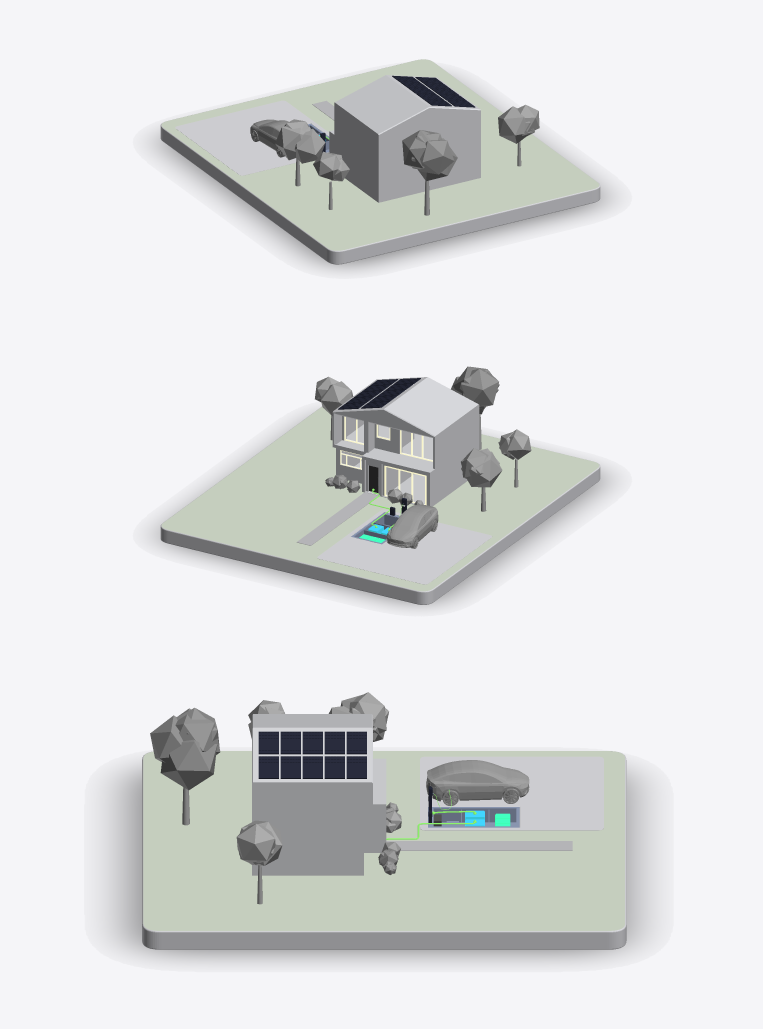
The model's file is sett-scroll-onzichtbare-energiehub.glb.
3 views of the same model, one above another, from view 1: azimuth 30°, elevation 25°; view 2: azimuth 150°, elevation 25°; view 3: azimuth 270°, elevation 25° (orthographic). The views are drawn at different scales.
Visible parts, largest first — view 1: object 93, Muren_boven, contact_shadow, object 94, Muren_beneden, object 77, object 70, car, object 63, object 75, object 61, object 67; view 2: object 93, Muren_boven, object 94, Muren_beneden, contact_shadow, car, Pathway, object 75, object 61, object 70, Vloer, object 67; view 3: object 93, contact_shadow, Muren_boven, object 94, Muren_beneden, car, object 76, Pathway, object 71, BAK_met_RIBS, object 78, object 77 (+1 smaller).
Boxes of the visible parts, <box> form: object 93: <box>160,59,600,264</box>; Muren_boven: <box>334,75,480,166</box>; contact_shadow: <box>157,138,607,268</box>; object 94: <box>175,100,329,175</box>; Muren_beneden: <box>329,130,480,202</box>; object 77: <box>420,139,454,174</box>; object 70: <box>498,106,531,143</box>; car: <box>250,119,288,157</box>; object 63: <box>294,128,325,163</box>; object 75: <box>402,130,430,168</box>; object 61: <box>275,126,305,160</box>; object 67: <box>313,151,340,180</box>; object 93: <box>160,406,600,604</box>; Muren_boven: <box>332,377,479,468</box>; object 94: <box>317,509,492,584</box>; Muren_beneden: <box>332,424,479,506</box>; contact_shadow: <box>157,472,607,605</box>; car: <box>386,504,438,548</box>; Pathway: <box>296,492,377,545</box>; object 75: <box>459,368,498,406</box>; object 61: <box>461,451,502,487</box>; object 70: <box>321,381,353,415</box>; Vloer: <box>354,461,466,506</box>; object 67: <box>506,429,531,459</box>; object 93: <box>142,751,626,949</box>; contact_shadow: <box>115,768,642,958</box>; Muren_boven: <box>252,714,372,826</box>; object 94: <box>420,756,603,830</box>; Muren_beneden: <box>252,758,386,875</box>; car: <box>426,760,529,805</box>; object 76: <box>160,739,217,790</box>; Pathway: <box>386,841,572,850</box>; object 71: <box>236,824,275,862</box>; BAK_met_RIBS: <box>428,807,519,826</box>; object 78: <box>175,708,220,754</box>; object 77: <box>150,715,182,762</box>.
Size of the model in its own units: 3281 by 652 by 3281.
28 materials, 1 textured.
